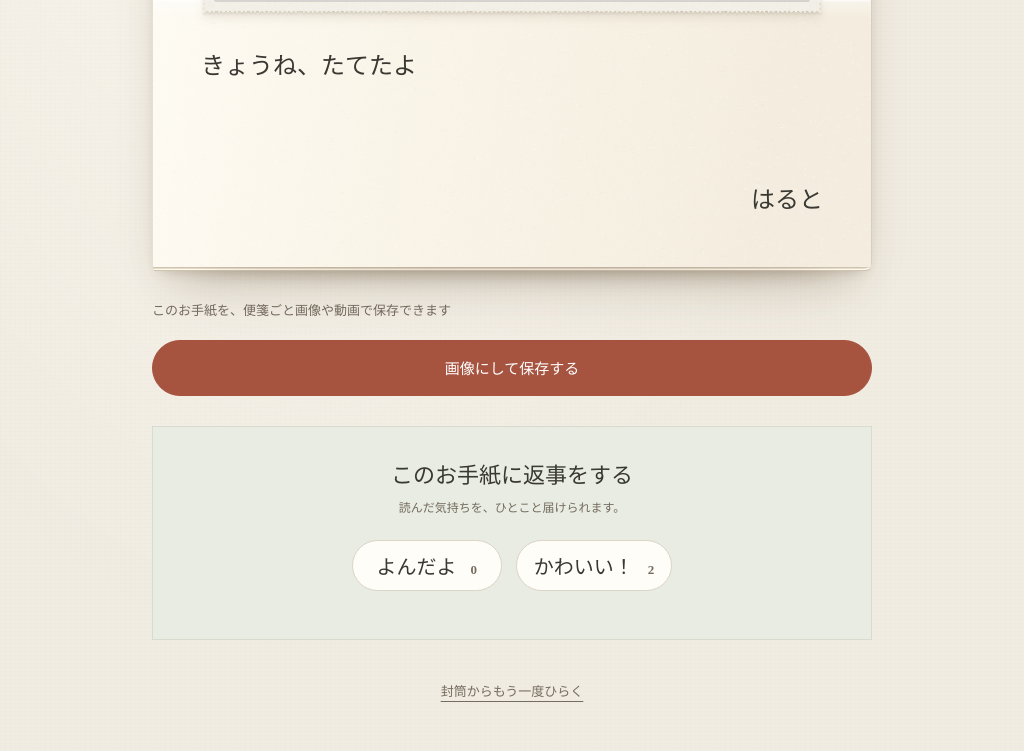
Test: LetterPage › shows an ink receipt only after the reaction is saved and blocks duplicate taps
The width and height of the screenshot is (1024, 751).
(page scrolled)
Click the button "よんだよ0".
click(427, 566)  # box [352,540,502,591]
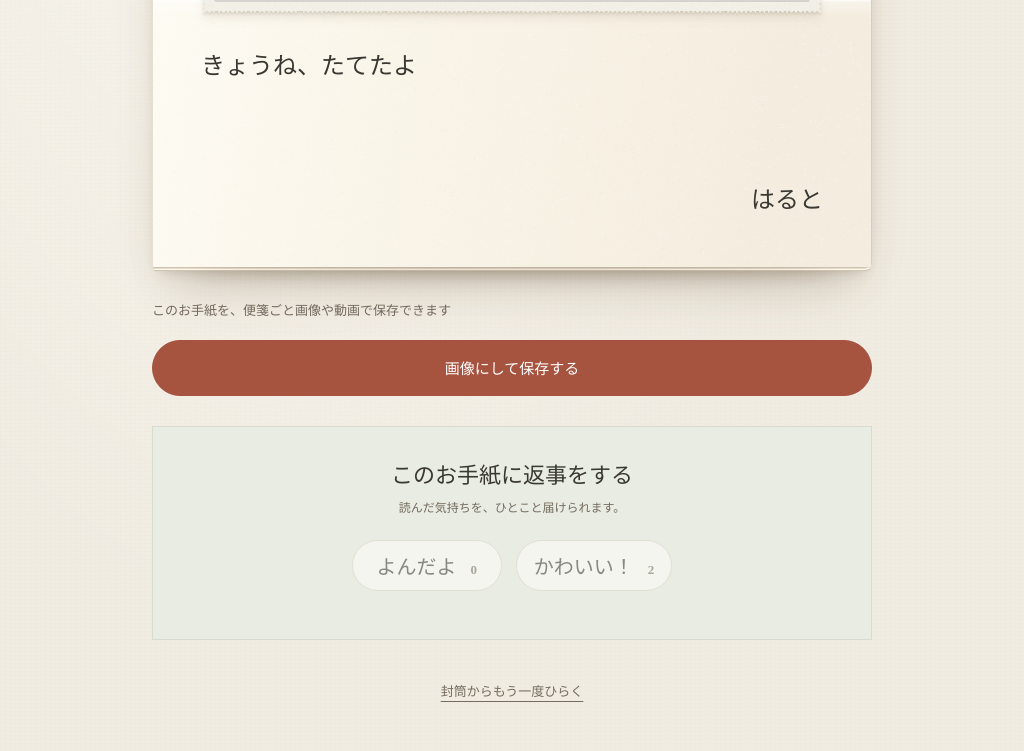
Expected: the text "よんだよ、を届けました" is not shown
Expected: the button "よんだよ0" is disabled
Click the button "よんだよ0".
click(427, 566)  # box [352,540,502,591]
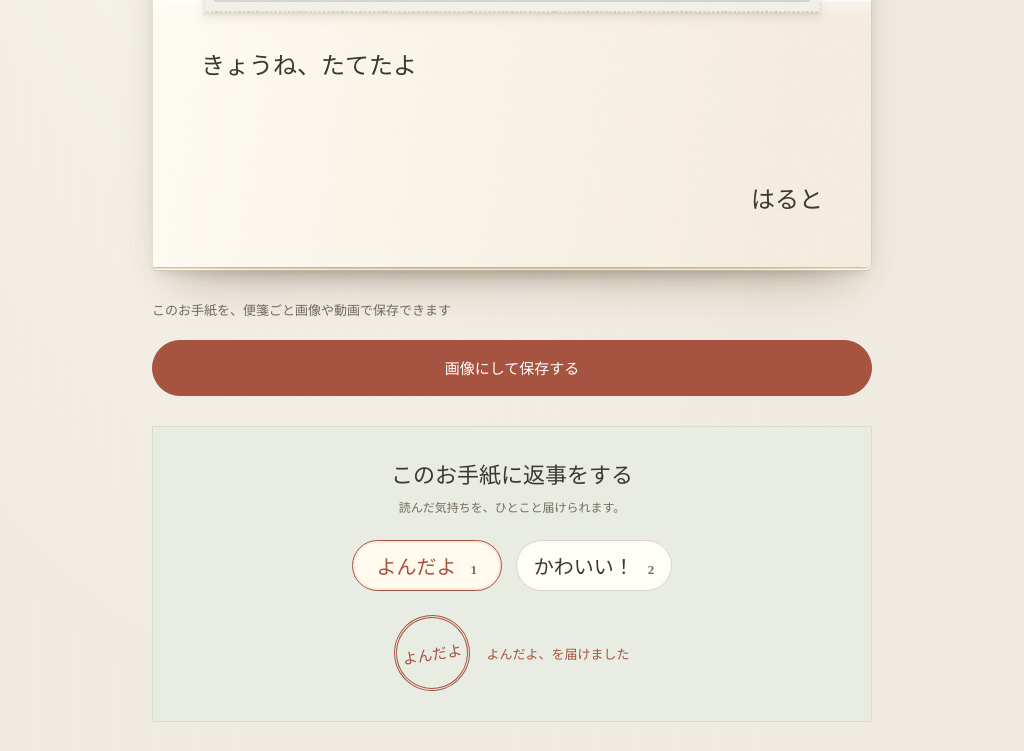
Expected: the text "よんだよ、を届けました" is shown, [486,644,630,663]
Expected: the button "よんだよ1" is enabled, [352,540,502,591]
